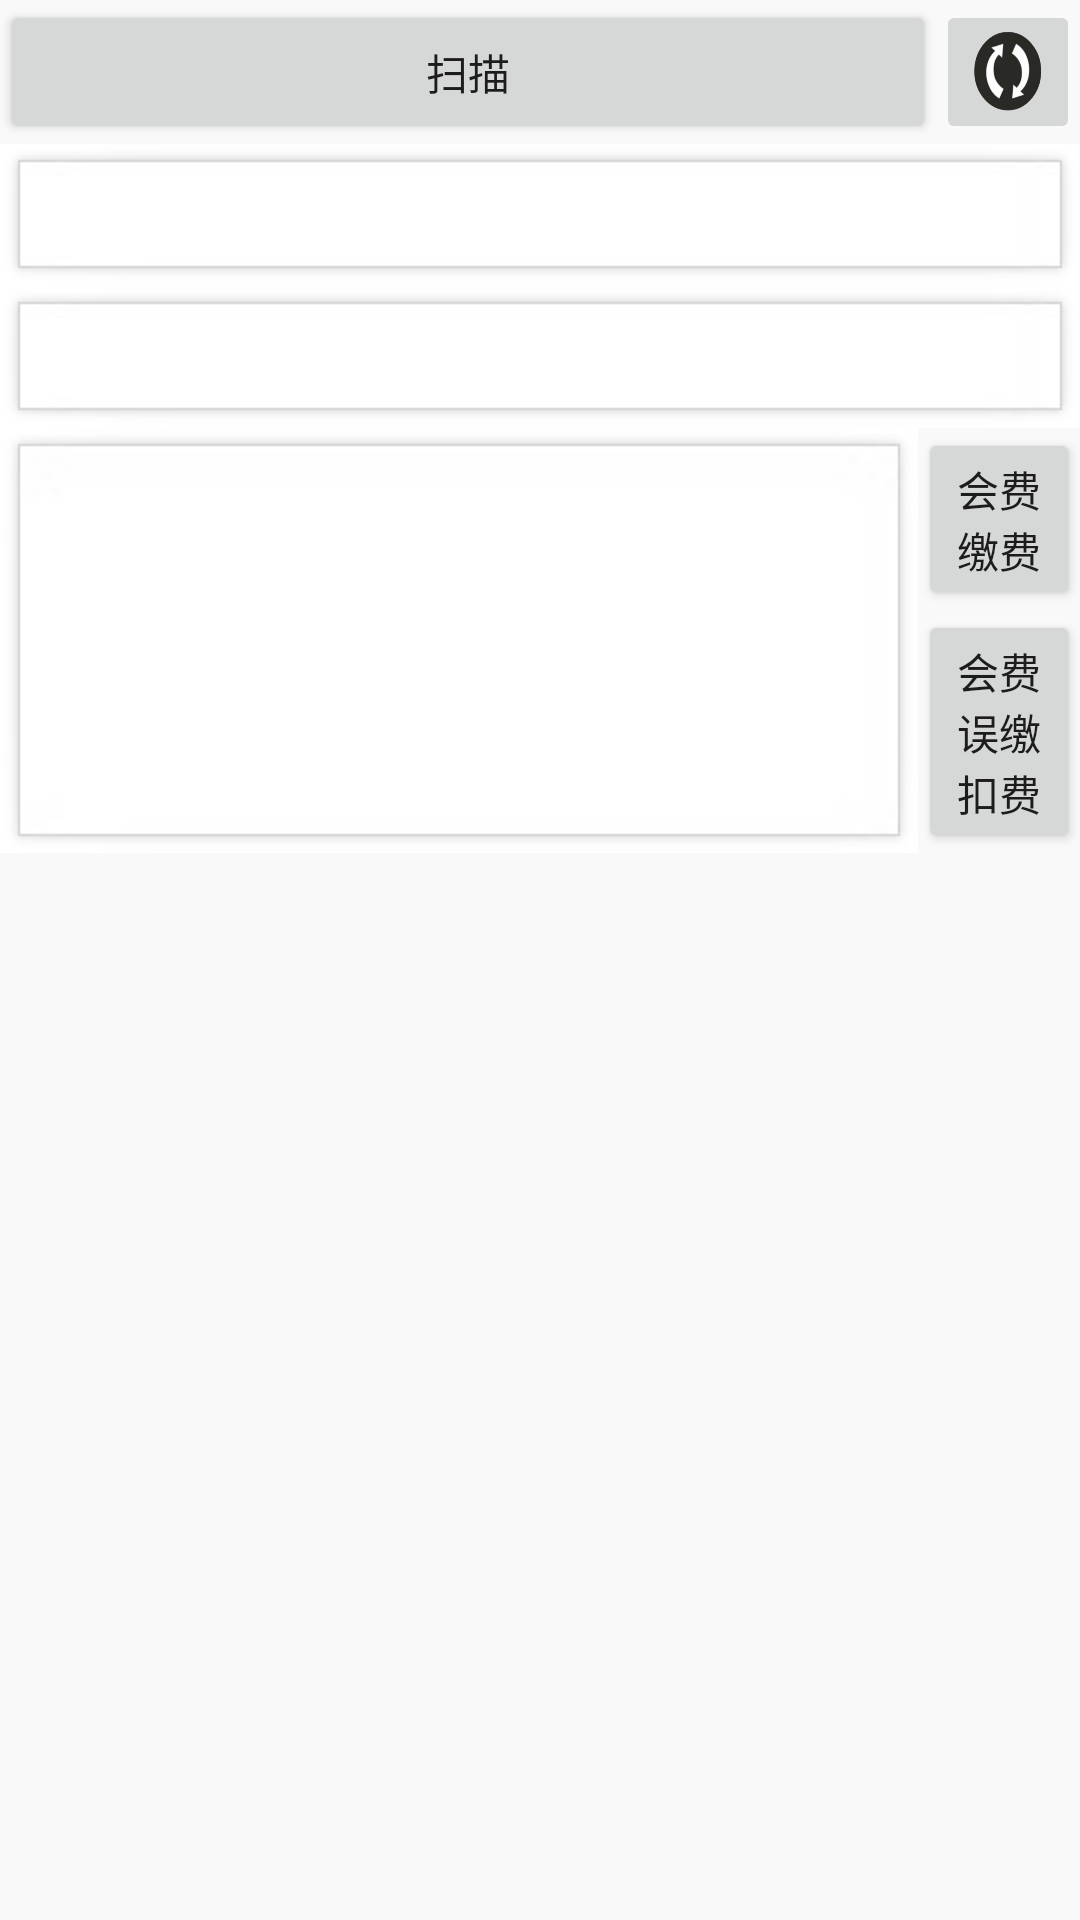

Where to tap for icons on this 1080px×1920px app screen, as point (x, y):
刷新: point (1008, 72)
